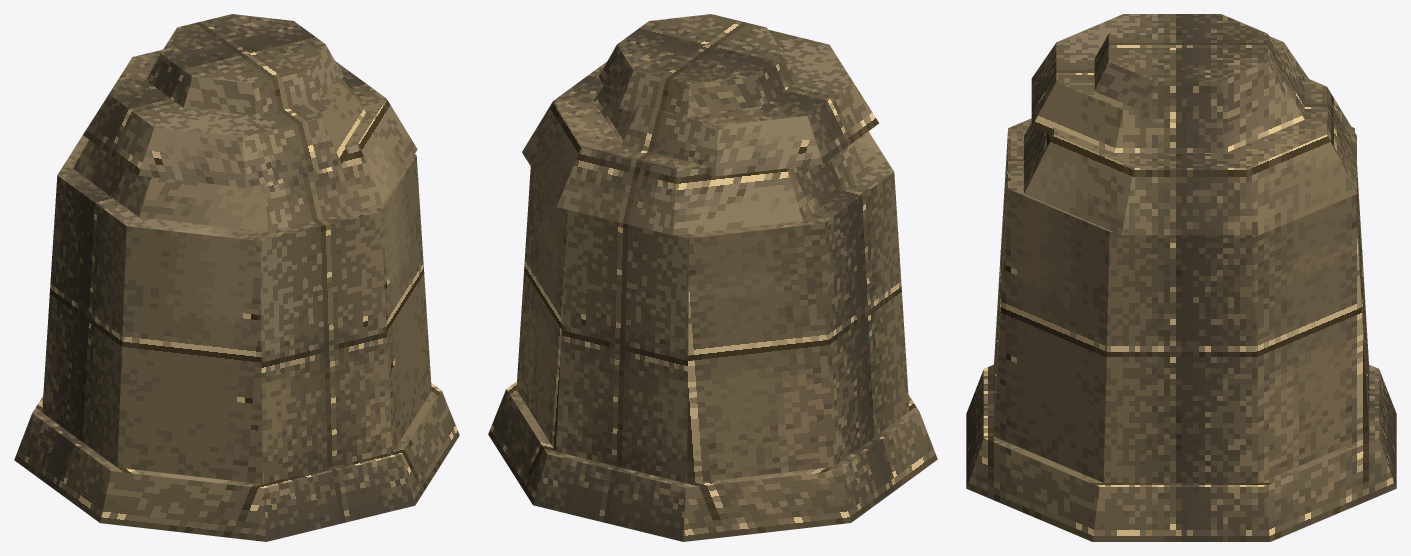
Rendered from prop_column_stump.glb.
The picture shows the model from 3 angles, left to right: view 1: azimuth 30°, elevation 25°; view 2: azimuth 150°, elevation 25°; view 3: azimuth 270°, elevation 25°; orthographic projection. The views are drawn at different scales.
Visible parts, largest first — view 1: prop_column_stump; view 2: prop_column_stump; view 3: prop_column_stump.
Boxes of the visible parts, box(x1,y1,x2,y2) form: prop_column_stump: box(14, 14, 459, 541); prop_column_stump: box(488, 14, 937, 541); prop_column_stump: box(966, 14, 1396, 541).
Bounding box in the file's own units: 1.15 × 1.2 × 1.15.
1 material, 1 textured.
